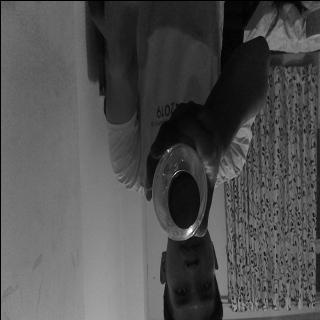plastic_bottles: (150, 140, 207, 240)
